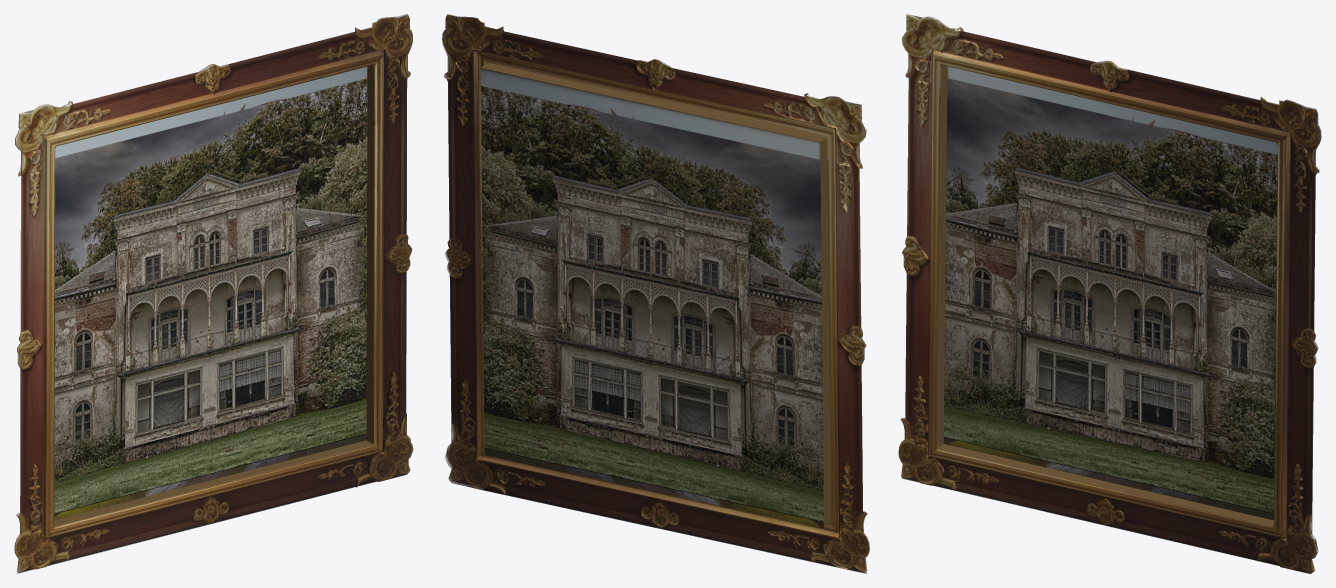
3 renders of one model, left to right at view 1: azimuth 30°, elevation 25°; view 2: azimuth 150°, elevation 25°; view 3: azimuth 330°, elevation 25°, orthographic. The views are drawn at different scales.
Visible parts, largest first — view 1: Beautiful painting by Jungle Jim; view 2: Beautiful painting by Jungle Jim; view 3: Beautiful painting by Jungle Jim.
Boxes of the visible parts, left/top/right/bottom form: Beautiful painting by Jungle Jim: left=14, top=14, right=413, bottom=573; Beautiful painting by Jungle Jim: left=442, top=14, right=869, bottom=573; Beautiful painting by Jungle Jim: left=898, top=14, right=1321, bottom=573.
Size of the model in its own units: 2.51 by 2.73 by 0.1584.
Materials: 2 (1 with a texture image).
